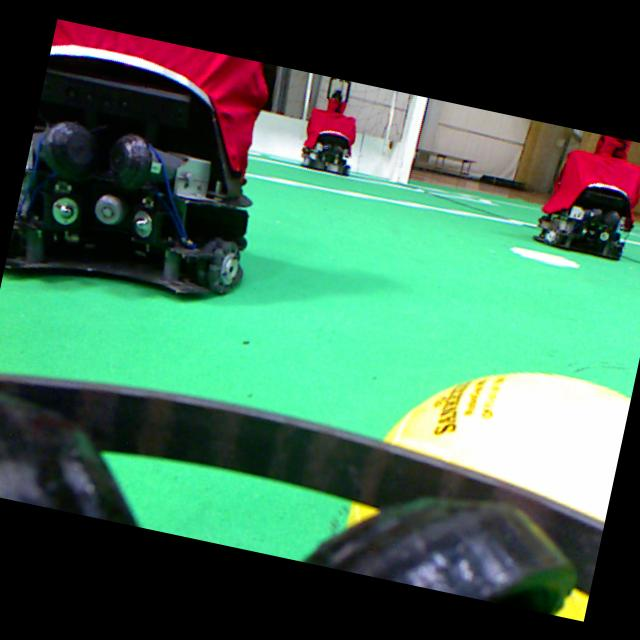ball: (350, 372, 630, 619), (554, 588, 588, 620)
goal: (391, 94, 427, 183)
